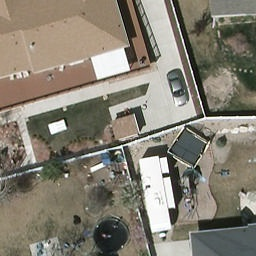camping car: (136, 158, 173, 233)
car: (164, 71, 191, 103)
